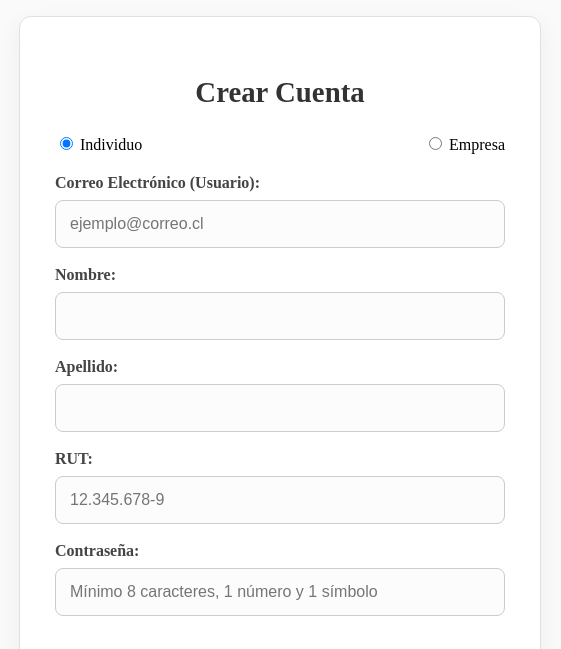
Scenario: Componente Register - Lógica Condicional › Cambia a campos de Empresa al seleccionar el Radio Button
The image size is (561, 649).
// Simulamos el clic del usuario en "Empresa"
Click the radio button labelled "Empresa" at (436, 143), box [429,137,442,150]
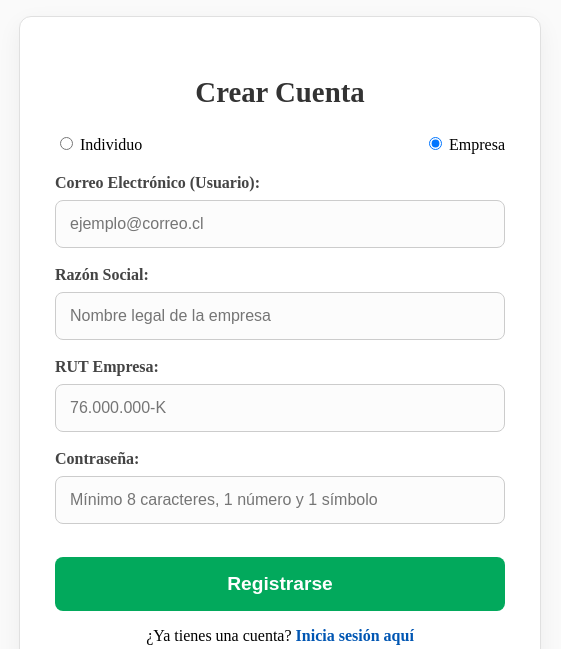
Expected: the field labelled "Razón Social:" is shown, [55,292,505,340]
Expected: the field labelled "RUT Empresa:" is shown, [55,384,505,432]
Expected: the label labelled "Apellido:" is gone
